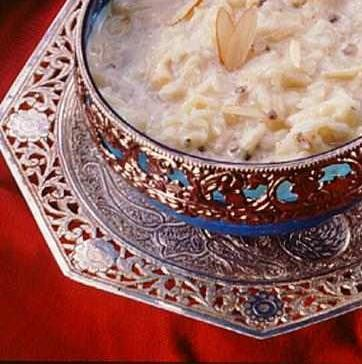Kheer: (92, 2, 362, 163)
